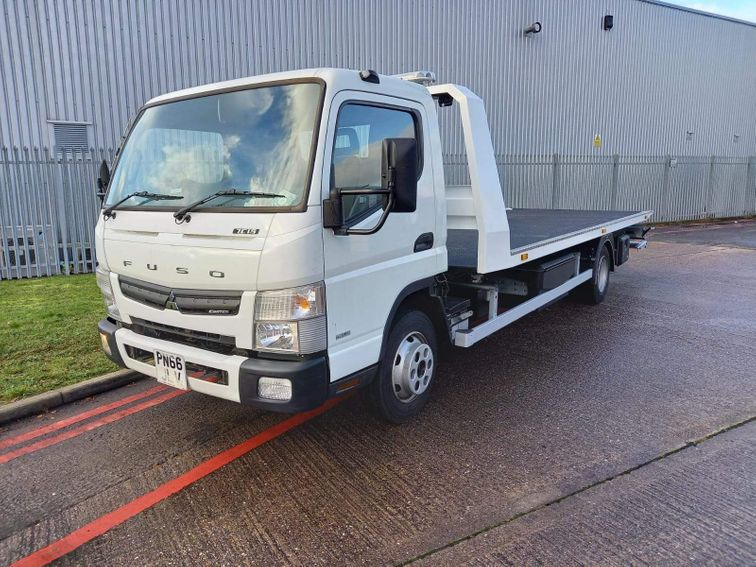Semi: (91, 68, 651, 424)
